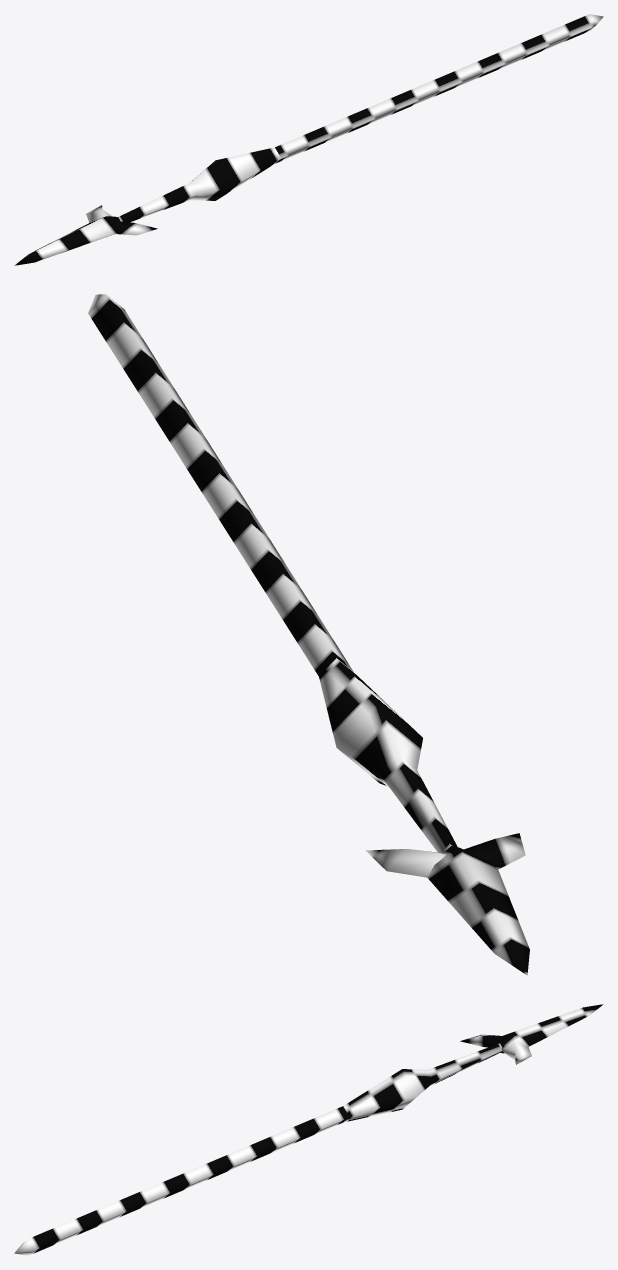
Rendered from initwesp4.dae.
The picture shows the model from 3 angles, top to bottom: view 1: azimuth 90°, elevation 25°; view 2: azimuth 150°, elevation 25°; view 3: azimuth 270°, elevation 25°; orthographic projection. The views are drawn at different scales.
Visible parts, largest first — view 1: weapon; view 2: weapon; view 3: weapon.
Part boxes in pixels (x1=…): weapon: x1=14, y1=14, x2=603, y2=265; weapon: x1=88, y1=294, x2=529, y2=975; weapon: x1=14, y1=1004, x2=603, y2=1255.
Bounding box in the file's own units: 2.24 × 2.24 × 0.1704.
Materials: 1 (1 with a texture image).
